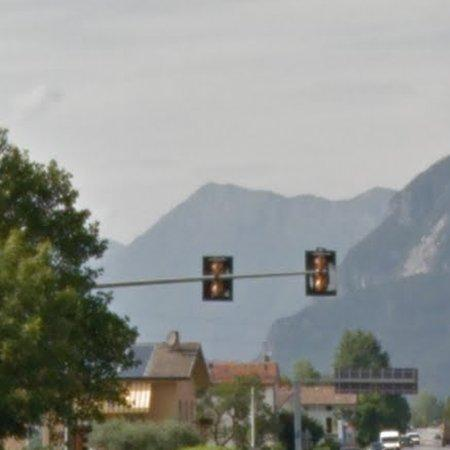traffic lights: (209, 256, 228, 300), (312, 252, 330, 292)
